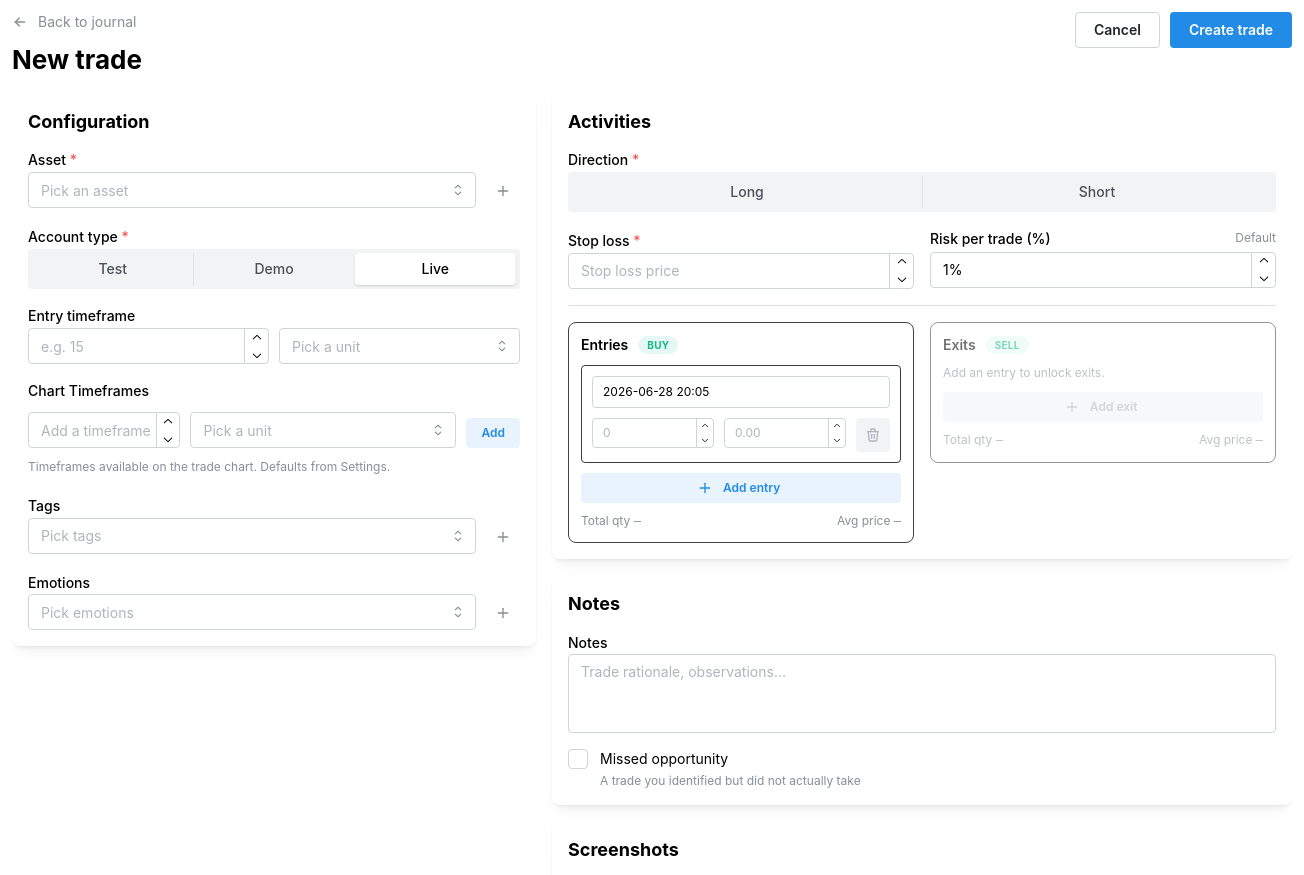
Test: TradeFormPage — create mode › blocks submit and shows validation errors when required fields are empty
This screenshot has width=1304, height=875.
Expected: the heading "New trade" is shown, [12,42,142,77]
Click the button "Create trade": {"x": 1231, "y": 30} [1170,12,1292,48]
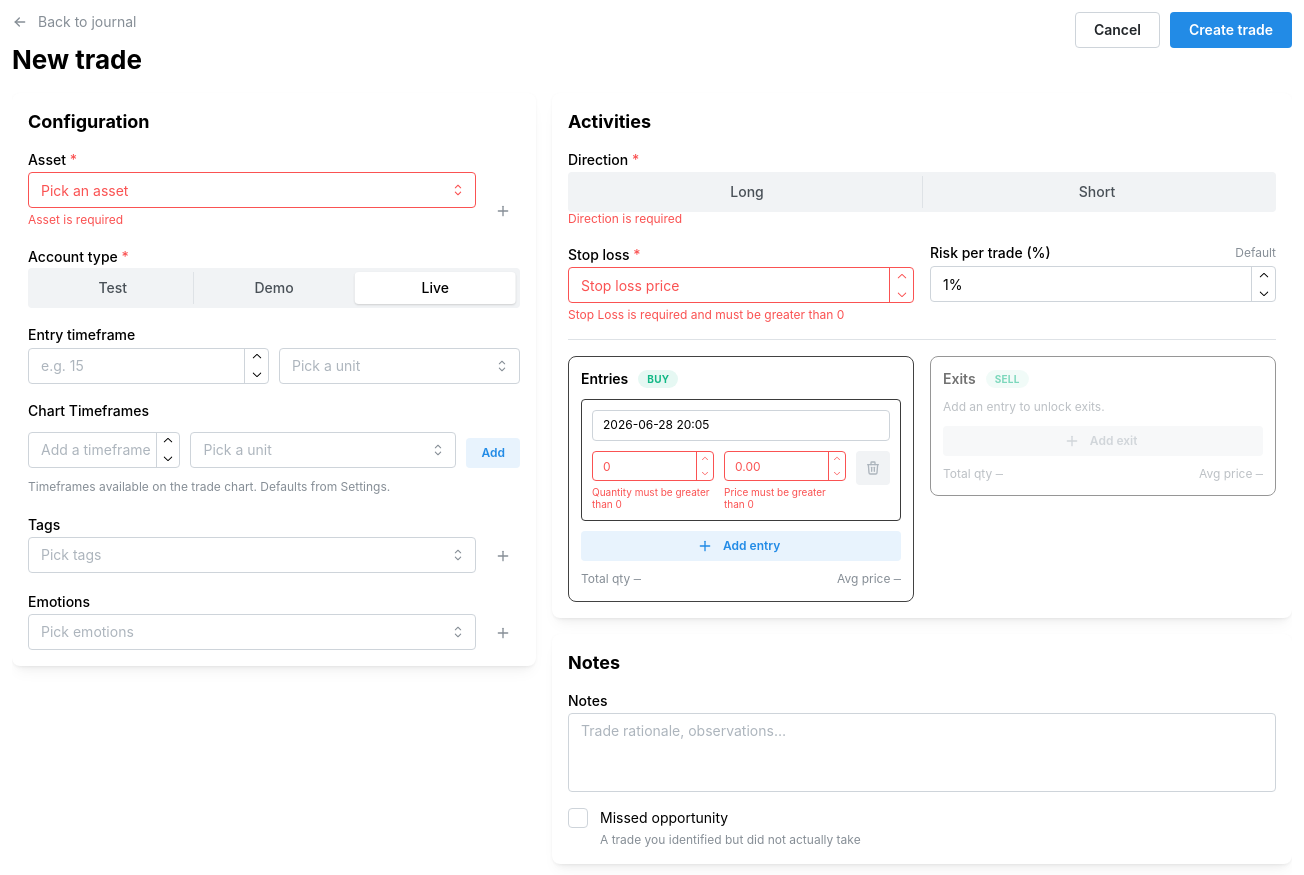
Now the text "Asset is required" is shown, box [28,212,123,227]
Now the text "Direction is required" is shown, box [568,211,682,226]
Now the text "Price must be greater than 0" is shown, box [724,486,826,510]
